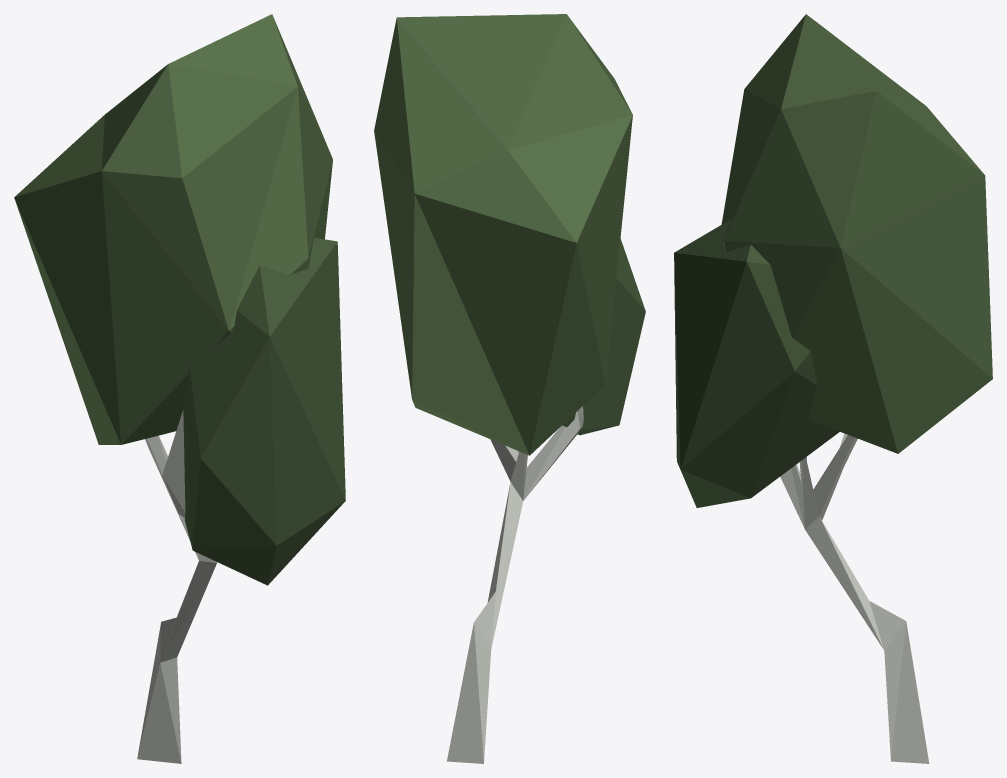
3 views of the same model, side by side, from view 1: azimuth 30°, elevation 25°; view 2: azimuth 150°, elevation 25°; view 3: azimuth 270°, elevation 25° (orthographic). The views are drawn at different scales.
Visible parts, largest first — view 1: cube-004; view 2: cube-004; view 3: cube-004.
Boxes of the visible parts, bbox=[...] form: cube-004: bbox=[14, 14, 345, 763]; cube-004: bbox=[374, 14, 645, 763]; cube-004: bbox=[674, 14, 992, 763].
Bounding box in the file's own units: 1.5 × 4.04 × 1.62.
